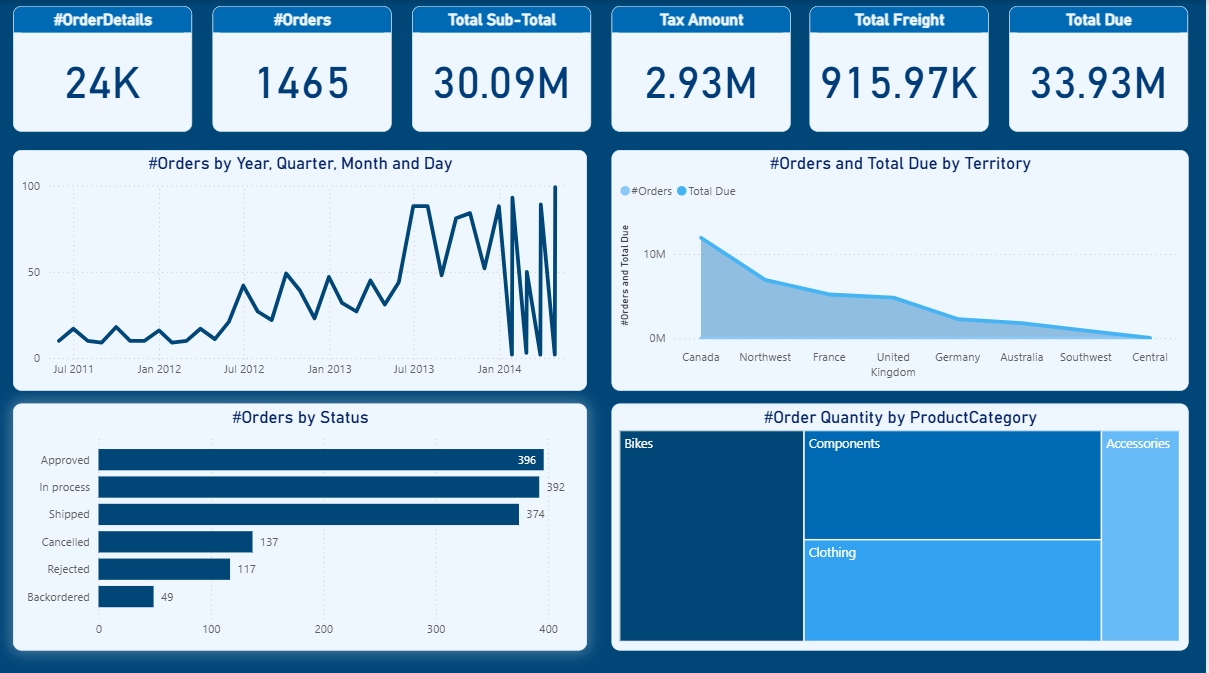

This screenshot's page, from the dashboard's own definition file:
{"tool":"powerbi","page":{"name":"Sales Dashboard","canvas":[1280,720],"ordinal":0},"visuals":[{"type":"card","title":"#OrderDetails","fields":{"Values":["DAX Table.#Order Details"]},"box":[16.7,6.7,190,133.3],"z":0},{"type":"card","title":"Tax Amount","fields":{"Values":["DAX Table.Total Tax"]},"box":[650,6.7,190,133.3],"z":1000},{"type":"card","title":"Total Sub-Total","fields":{"Values":["DAX Table.Total Sub-Total"]},"box":[438.9,6.7,190,133.3],"z":2000},{"type":"card","title":"Total Freight","fields":{"Values":["DAX Table.Toal Freight"]},"box":[861.1,6.7,190,133.3],"z":3000},{"type":"lineChart","fields":{"Y":["DAX Table.#Orders"],"Category":["Dim Date.OrderDate.Variation.Date Hierarchy.Year","Dim Date.OrderDate.Variation.Date Hierarchy.Quarter","Dim Date.OrderDate.Variation.Date Hierarchy.Month","Dim Date.OrderDate.Variation.Date Hierarchy.Day"]},"box":[16.7,158.3,608.3,255],"z":4000},{"type":"barChart","fields":{"Y":["DAX Table.#Orders"],"Category":["Dim Status.Status"]},"box":[16.7,428.3,608.3,261.7],"z":5000},{"type":"treemap","fields":{"Group":["Dim Product.ProductCategory Hierarchy.ProductCategory","Dim Product.ProductCategory Hierarchy.ProductSubCategory","Dim Product.ProductCategory Hierarchy.Product"],"Values":["DAX Table.#Order Quantity"]},"box":[650,428.3,611.7,261.7],"z":6000},{"type":"stackedAreaChart","fields":{"Category":["Dim Territory.Territory"],"Y":["DAX Table.#Orders","DAX Table.Total Due"]},"box":[650,158.3,611.7,255],"z":7000},{"type":"card","title":"Total Due","fields":{"Values":["DAX Table.Total Due"]},"box":[1072.2,6.7,190,133],"z":8000},{"type":"card","title":"#Orders","fields":{"Values":["DAX Table.#Orders"]},"box":[227.8,6.7,190,133.3],"z":9000}]}

Visuals, with their boxes in screenshot pixels (x1, y1, x2, y2), scaled from the page's 1280x720 canvas onto the 1209x673 screenshot:
"#OrderDetails" card: x1=16, y1=6, x2=195, y2=131
"Tax Amount" card: x1=614, y1=6, x2=793, y2=131
"Total Sub-Total" card: x1=415, y1=6, x2=594, y2=131
"Total Freight" card: x1=813, y1=6, x2=993, y2=131
lineChart - DAX Table.#Orders x Dim Date.OrderDate.Variation.Date Hierarchy.Year: x1=16, y1=148, x2=590, y2=386
barChart - DAX Table.#Orders x Dim Status.Status: x1=16, y1=400, x2=590, y2=645
treemap - Dim Product.ProductCategory Hierarchy.ProductCategory x Dim Product.ProductCategory Hierarchy.ProductSubCategory: x1=614, y1=400, x2=1192, y2=645
stackedAreaChart - Dim Territory.Territory x DAX Table.#Orders: x1=614, y1=148, x2=1192, y2=386
"Total Due" card: x1=1013, y1=6, x2=1192, y2=131
"#Orders" card: x1=215, y1=6, x2=395, y2=131
